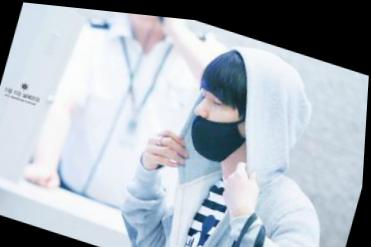WRONG: (184, 76, 259, 164)
